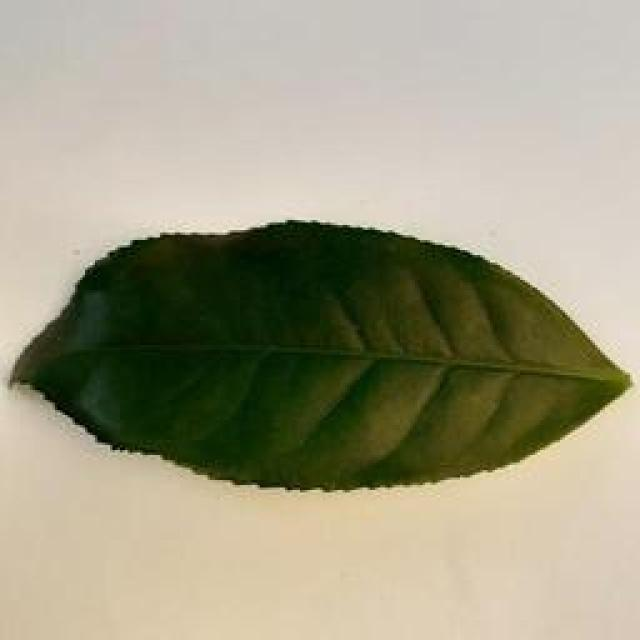Healthy: (1, 212, 634, 497)
